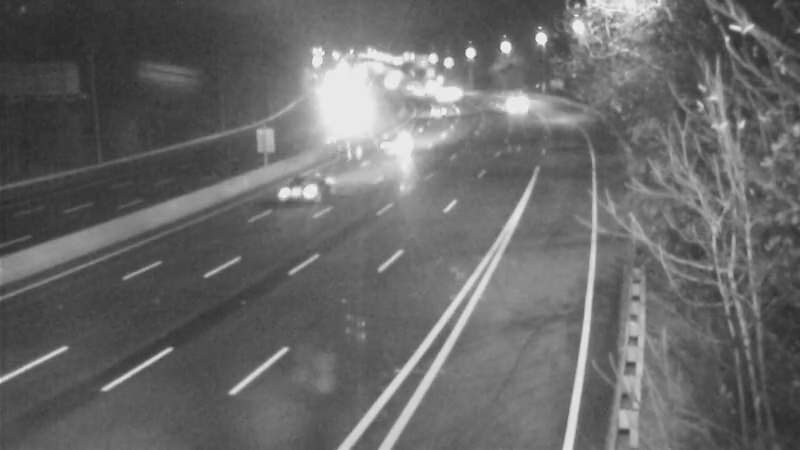vehicle: (258, 144, 338, 224), (391, 66, 441, 116), (416, 70, 466, 120), (431, 65, 481, 115), (487, 78, 537, 128), (411, 85, 461, 135), (375, 116, 425, 166)
